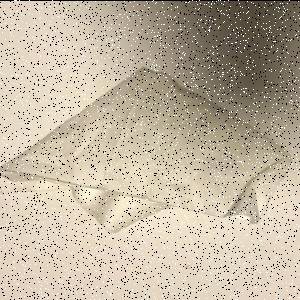Trash: (2, 67, 292, 237)
